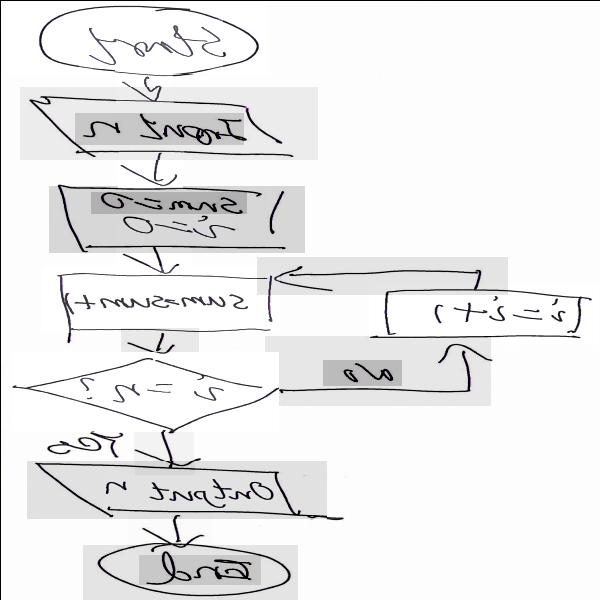arrow: (263, 335, 490, 405), (256, 256, 507, 294), (133, 423, 193, 475), (127, 511, 211, 547), (120, 327, 198, 361), (115, 246, 191, 279), (117, 150, 182, 188), (113, 69, 172, 102)
data: (19, 86, 316, 159), (26, 461, 324, 518)
decision: (10, 352, 278, 431)
process: (48, 185, 304, 252), (41, 265, 279, 332), (368, 282, 598, 344)
terminator: (4, 2, 268, 74), (82, 544, 297, 600)
text: (60, 284, 251, 324), (78, 19, 222, 69), (101, 474, 277, 510), (413, 291, 582, 326), (73, 112, 242, 144), (62, 376, 233, 403), (138, 554, 260, 584), (90, 191, 246, 213), (115, 218, 231, 242), (39, 429, 129, 456), (322, 359, 401, 385)
